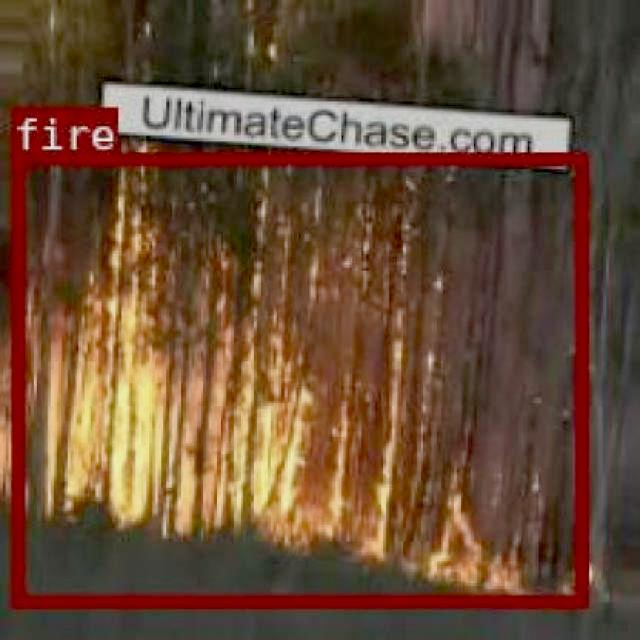fire: (11, 150, 584, 606)
